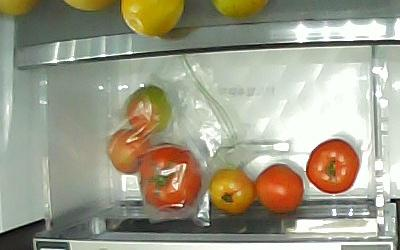tomato: (305, 137, 360, 193), (253, 162, 304, 213), (208, 167, 254, 214)
tomato_vinyl: (136, 141, 202, 210), (125, 83, 172, 134), (104, 127, 153, 174)
